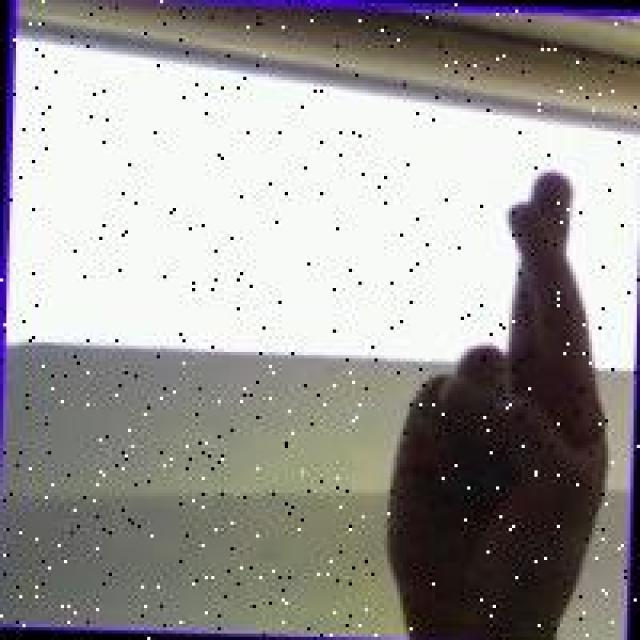R: (374, 157, 614, 640)
